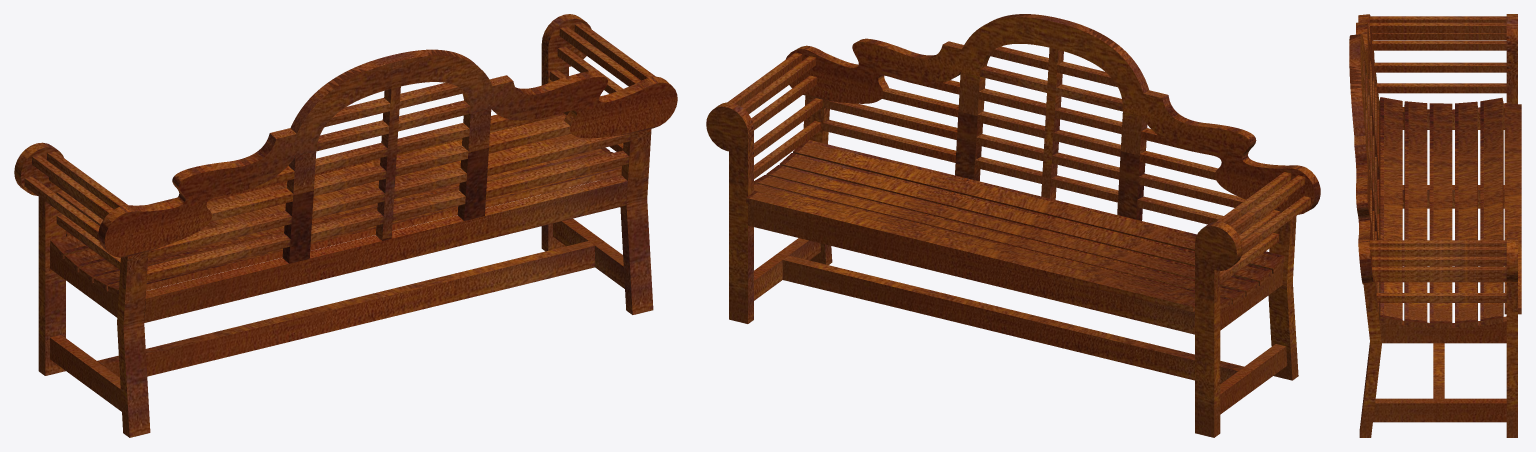
3 renders of one model, left to right at view 1: azimuth 30°, elevation 25°; view 2: azimuth 150°, elevation 25°; view 3: azimuth 270°, elevation 25°, orthographic. The views are drawn at different scales.
Parts seen in each view (by area): view 1: mesh47_mesh47-geometry, mesh93_mesh93-geometry, mesh49_mesh49-geometry, mesh89_mesh89-geometry, mesh87_mesh87-geometry, mesh36_mesh36-geometry, mesh26_mesh26-geometry, mesh13_mesh13-geometry, mesh77_mesh77-geometry, mesh67_mesh67-geometry, mesh53_mesh53-geometry, mesh55_mesh55-geometry (+21 smaller); view 2: mesh93_mesh93-geometry, mesh49_mesh49-geometry, mesh89_mesh89-geometry, mesh51_mesh51-geometry, mesh87_mesh87-geometry, mesh91_mesh91-geometry, mesh26_mesh26-geometry, mesh3_mesh3-geometry, mesh67_mesh67-geometry, mesh77_mesh77-geometry, mesh36_mesh36-geometry, mesh53_mesh53-geometry (+23 smaller); view 3: mesh93_mesh93-geometry, mesh15_mesh15-geometry, mesh87_mesh87-geometry, mesh9_mesh9-geometry, mesh91_mesh91-geometry, mesh32_mesh32-geometry, mesh3_mesh3-geometry, mesh1_mesh1-geometry, mesh5_mesh5-geometry, mesh28_mesh28-geometry, mesh13_mesh13-geometry, mesh30_mesh30-geometry (+14 smaller).
Part boxes in pixels (box(x1,y1,x2,y2)): mesh47_mesh47-geometry: box(144, 175, 627, 322); mesh93_mesh93-geometry: box(50, 114, 621, 295); mesh49_mesh49-geometry: box(97, 241, 594, 377); mesh89_mesh89-geometry: box(98, 55, 397, 257); mesh87_mesh87-geometry: box(392, 49, 677, 138); mesh36_mesh36-geometry: box(117, 251, 150, 437); mesh26_mesh26-geometry: box(14, 142, 65, 375); mesh13_mesh13-geometry: box(620, 129, 653, 314); mesh77_mesh77-geometry: box(392, 123, 469, 221); mesh67_mesh67-geometry: box(311, 143, 387, 241); mesh53_mesh53-geometry: box(457, 109, 491, 220); mesh55_mesh55-geometry: box(282, 151, 316, 263); mesh93_mesh93-geometry: box(754, 139, 1285, 309); mesh49_mesh49-geometry: box(782, 255, 1243, 383); mesh89_mesh89-geometry: box(1054, 19, 1320, 214); mesh51_mesh51-geometry: box(748, 204, 1194, 334); mesh87_mesh87-geometry: box(786, 14, 1060, 103); mesh91_mesh91-geometry: box(746, 191, 1194, 312); mesh26_mesh26-geometry: box(1195, 221, 1242, 437); mesh3_mesh3-geometry: box(706, 102, 753, 323); mesh67_mesh67-geometry: box(1050, 107, 1122, 202); mesh77_mesh77-geometry: box(974, 88, 1046, 183); mesh36_mesh36-geometry: box(1268, 211, 1298, 380); mesh53_mesh53-geometry: box(955, 72, 985, 181); mesh93_mesh93-geometry: box(1379, 97, 1503, 328); mesh15_mesh15-geometry: box(1373, 398, 1506, 422); mesh87_mesh87-geometry: box(1349, 50, 1374, 284); mesh9_mesh9-geometry: box(1372, 256, 1506, 276); mesh91_mesh91-geometry: box(1504, 104, 1521, 314); mesh32_mesh32-geometry: box(1372, 33, 1506, 50); mesh3_mesh3-geometry: box(1506, 238, 1517, 437); mesh1_mesh1-geometry: box(1379, 316, 1506, 343); mesh5_mesh5-geometry: box(1370, 240, 1506, 256); mesh28_mesh28-geometry: box(1370, 16, 1506, 32); mesh13_mesh13-geometry: box(1359, 277, 1381, 437); mesh30_mesh30-geometry: box(1374, 62, 1506, 72).
Bounding box in the file's own units: 0.8538 × 0.4534 × 0.256.
